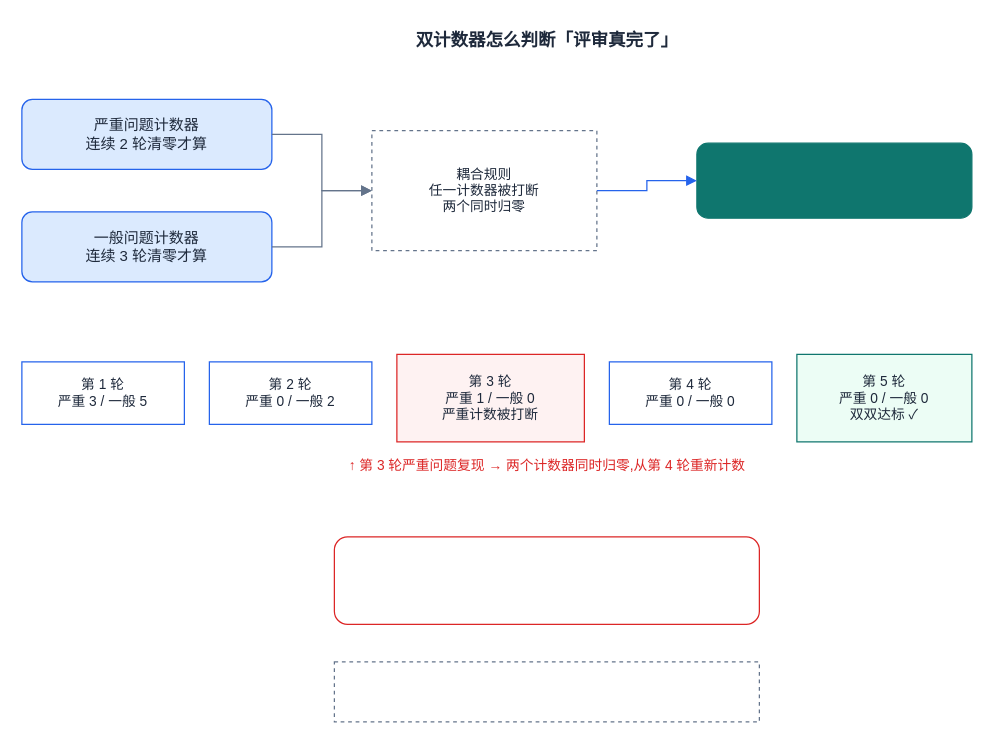
The diagram is 994 pixels wide and 744 high, and some of its shapes have lost their labels. The box of each missing label's shape, as (x1, y1, x2, y2) in pixels:
两个计数器同时达标 → 评审收敛: (696, 142, 972, 218)
每 5 轮强制全量复审 刷新分桶,重扫全局: (333, 661, 759, 722)
熔断阀 连续 10 轮问题数不下降 → 中止回路,叫人介入: (333, 536, 759, 624)
